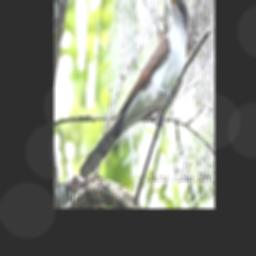Cuckoo: (79, 0, 188, 178)
